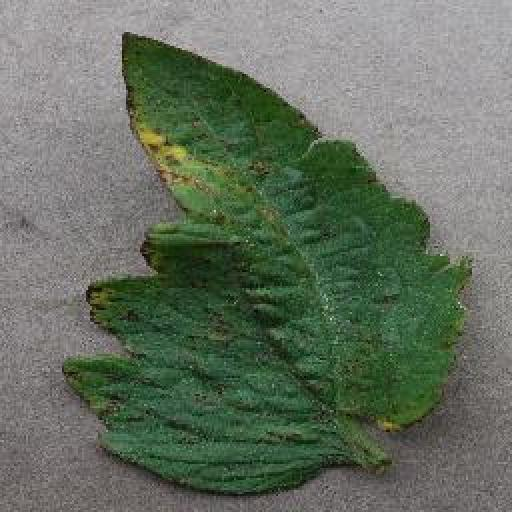Bacterial Spot: (55, 24, 480, 499)
